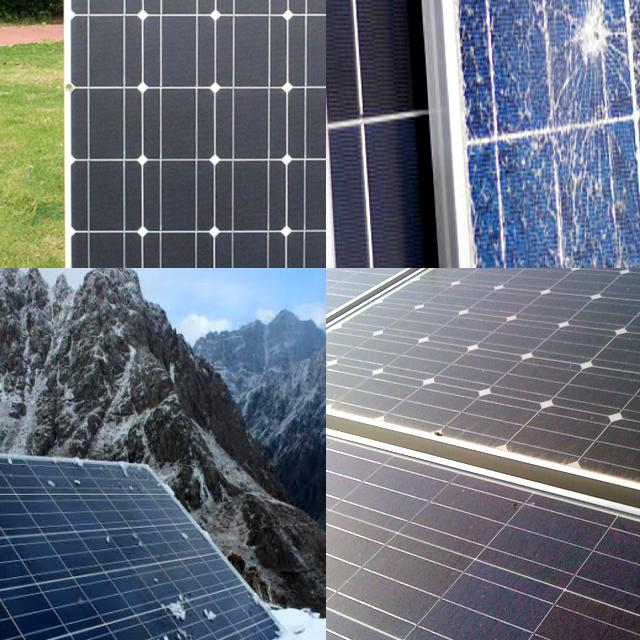crack: (73, 0, 326, 268)
hotspot: (505, 0, 640, 84), (534, 0, 640, 86)
panel: (155, 578, 230, 640), (38, 468, 98, 502), (89, 529, 166, 555), (110, 463, 152, 496), (0, 557, 30, 595), (260, 618, 306, 640), (182, 514, 205, 548), (0, 466, 29, 490), (0, 470, 23, 490)
